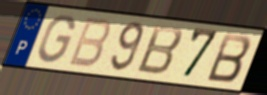7: (181, 26, 220, 82)
9: (108, 21, 146, 73)
B: (134, 23, 186, 77), (204, 32, 254, 84), (66, 16, 113, 70)
G: (37, 13, 77, 65)
